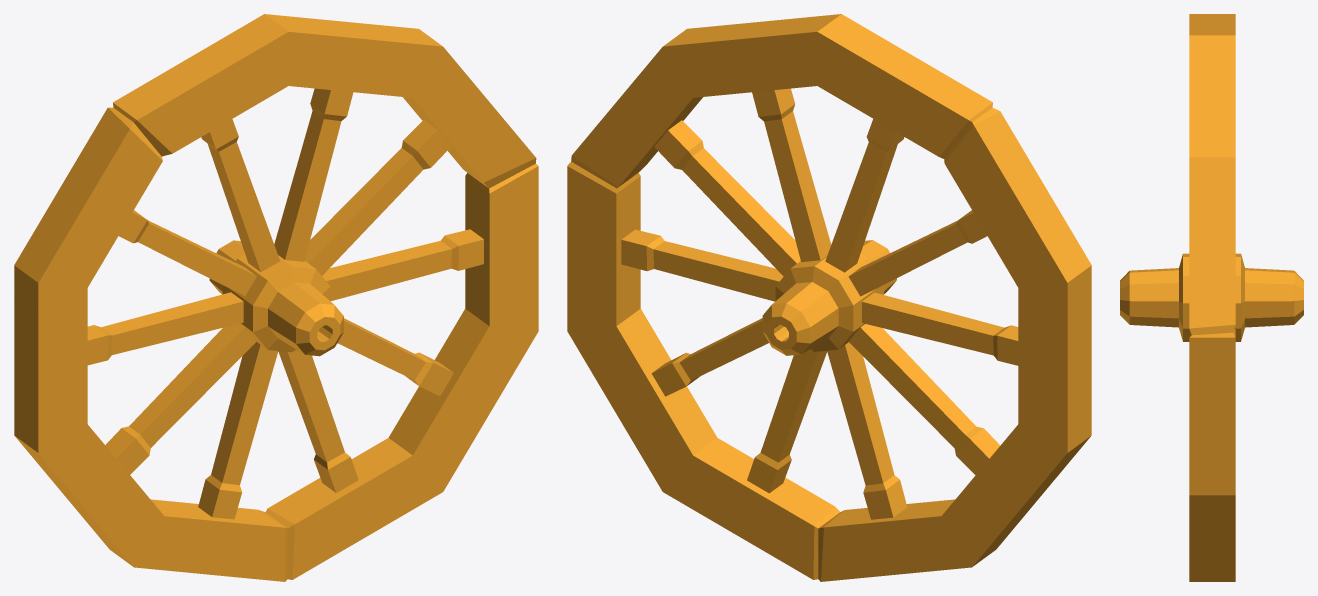
Rendered from SM_Wheel_Wooden_Small.fbx.
3 renders of one model, left to right at view 1: azimuth 30°, elevation 25°; view 2: azimuth 150°, elevation 25°; view 3: azimuth 270°, elevation 25°, orthographic. The views are drawn at different scales.
Parts seen in each view (by area): view 1: wheel-wooden-small; view 2: wheel-wooden-small; view 3: wheel-wooden-small.
Boxes of the visible parts, x1,y1,x2,y2 form: wheel-wooden-small: [14, 14, 538, 581]; wheel-wooden-small: [567, 14, 1091, 581]; wheel-wooden-small: [1120, 14, 1303, 581].
Size of the model in its own units: 0.4755 by 0.4989 by 0.1588.
